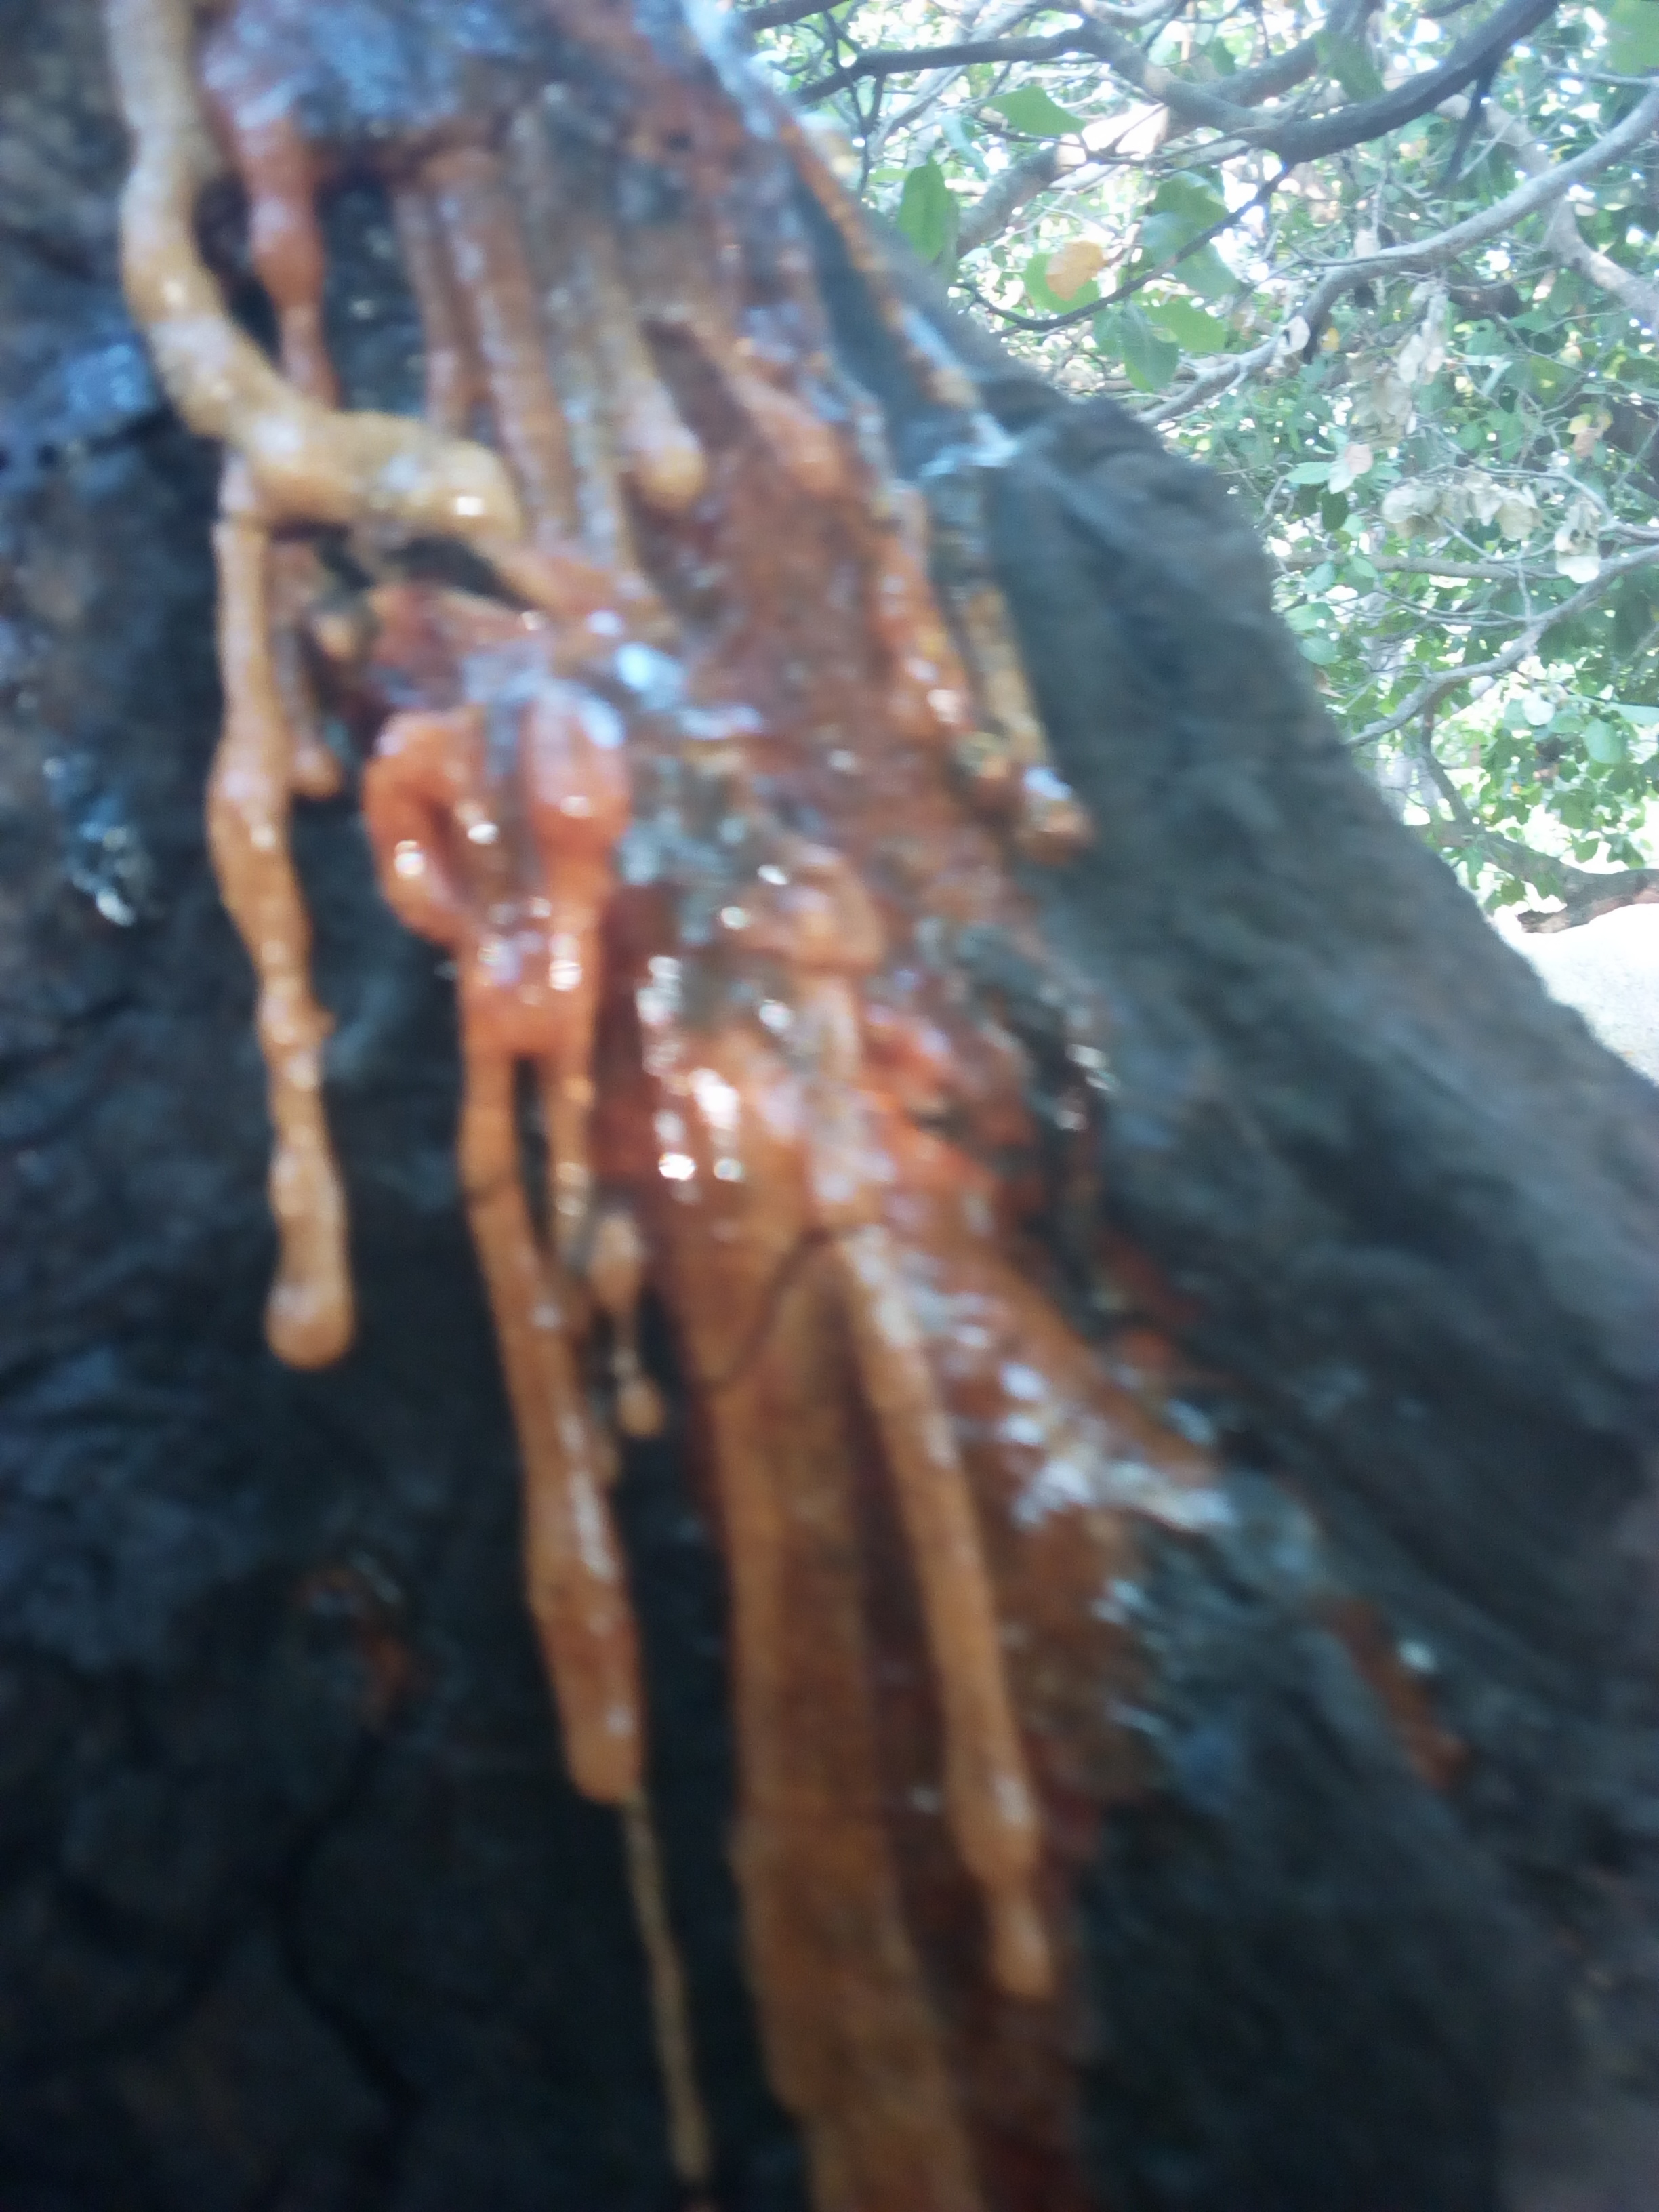Gommose: (0, 77, 1406, 2210)
